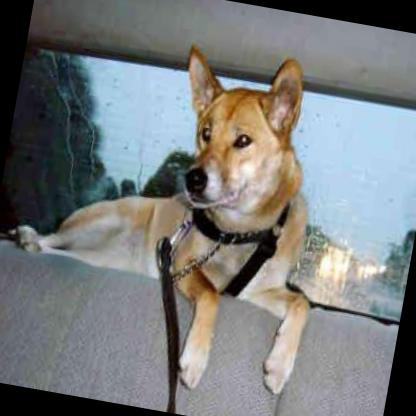dingo: (0, 15, 349, 408)
